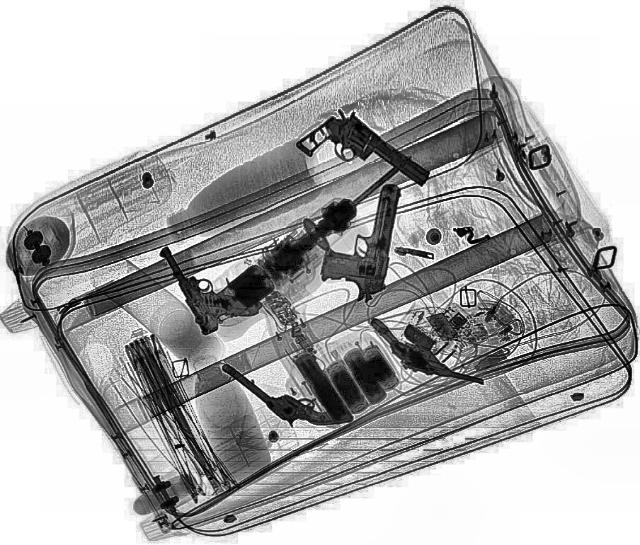Gun: (290, 102, 438, 214), (220, 338, 356, 446), (156, 227, 264, 334), (315, 176, 401, 304), (353, 317, 485, 399)
